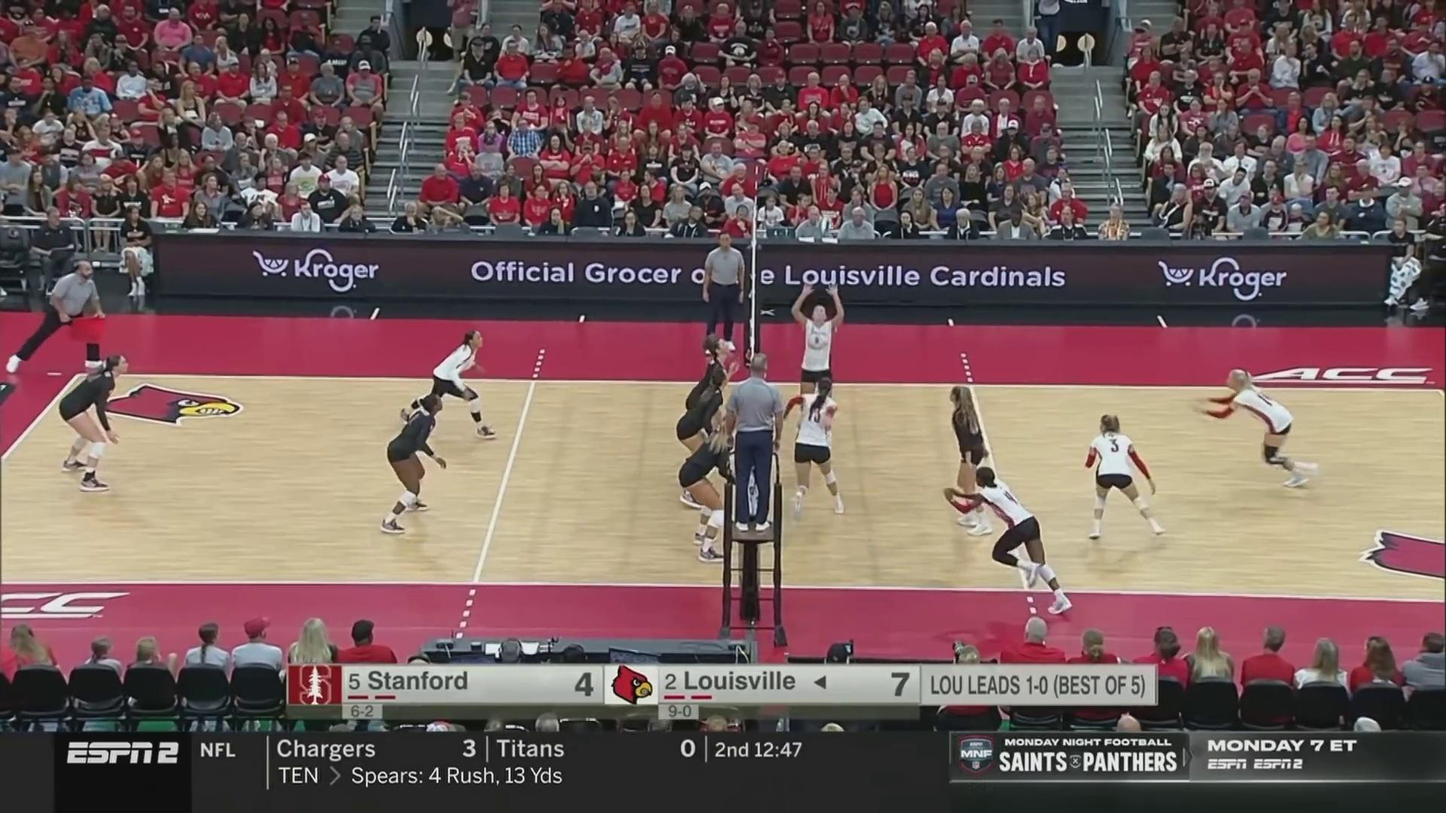player: (953, 472, 1071, 616), (1206, 369, 1320, 489), (774, 376, 846, 519), (1085, 419, 1170, 540), (58, 355, 128, 488), (414, 334, 501, 440), (382, 395, 448, 533), (677, 411, 734, 562), (787, 295, 846, 430), (684, 333, 736, 477), (945, 384, 993, 536), (681, 371, 733, 507)
refree: (0, 259, 104, 378), (720, 366, 789, 532), (704, 236, 746, 358)
